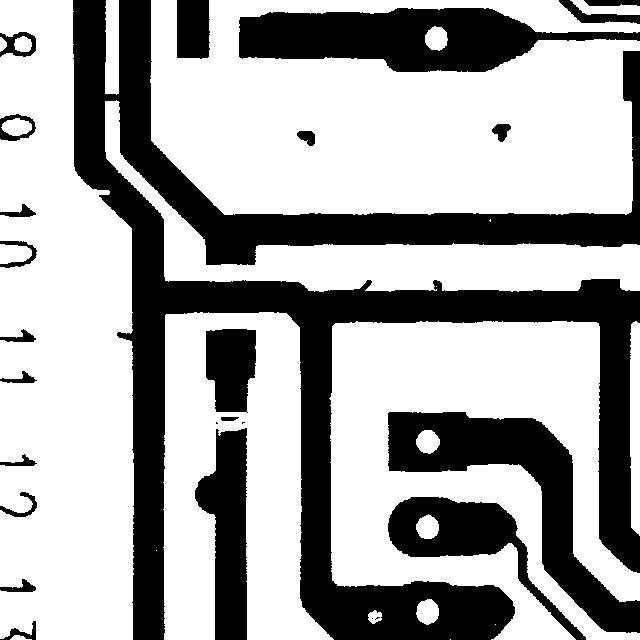copper: (482, 114, 520, 151), (287, 121, 324, 155)
mousebite: (80, 179, 119, 204)
open: (202, 402, 259, 445)
pin-hole: (358, 600, 391, 633)
short: (87, 84, 136, 110)
spur: (340, 270, 381, 305), (107, 322, 144, 350), (423, 270, 451, 304)
